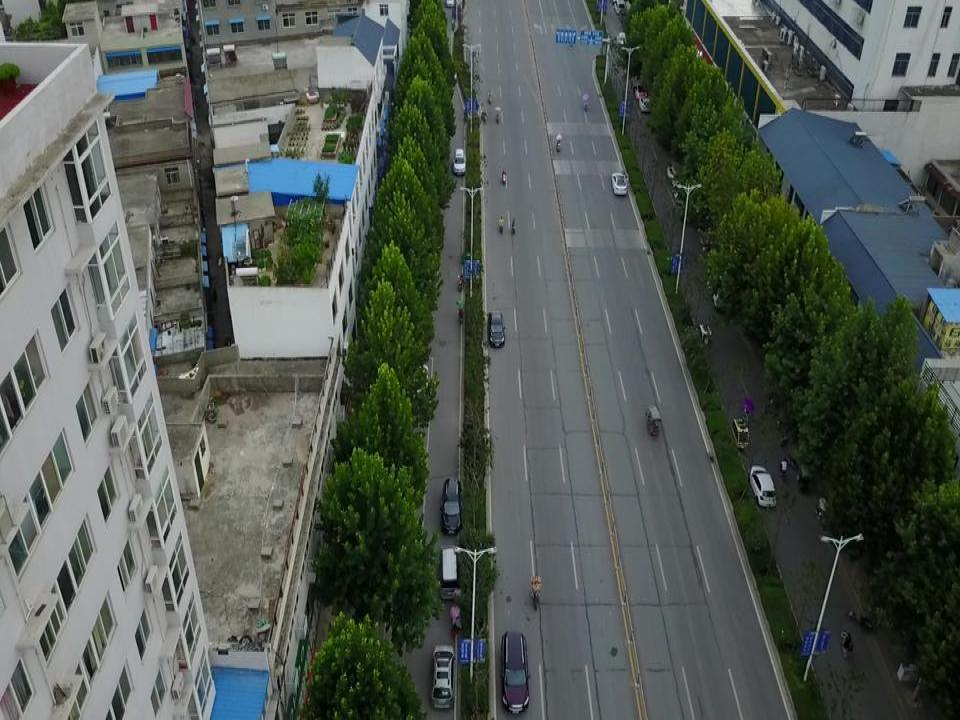car: (501, 629, 528, 712), (432, 645, 452, 707), (441, 479, 462, 534), (750, 464, 776, 504), (709, 286, 743, 314), (485, 312, 506, 344), (612, 171, 627, 196), (638, 97, 660, 112), (634, 81, 651, 99), (453, 150, 465, 174)
van: (442, 545, 461, 599)
